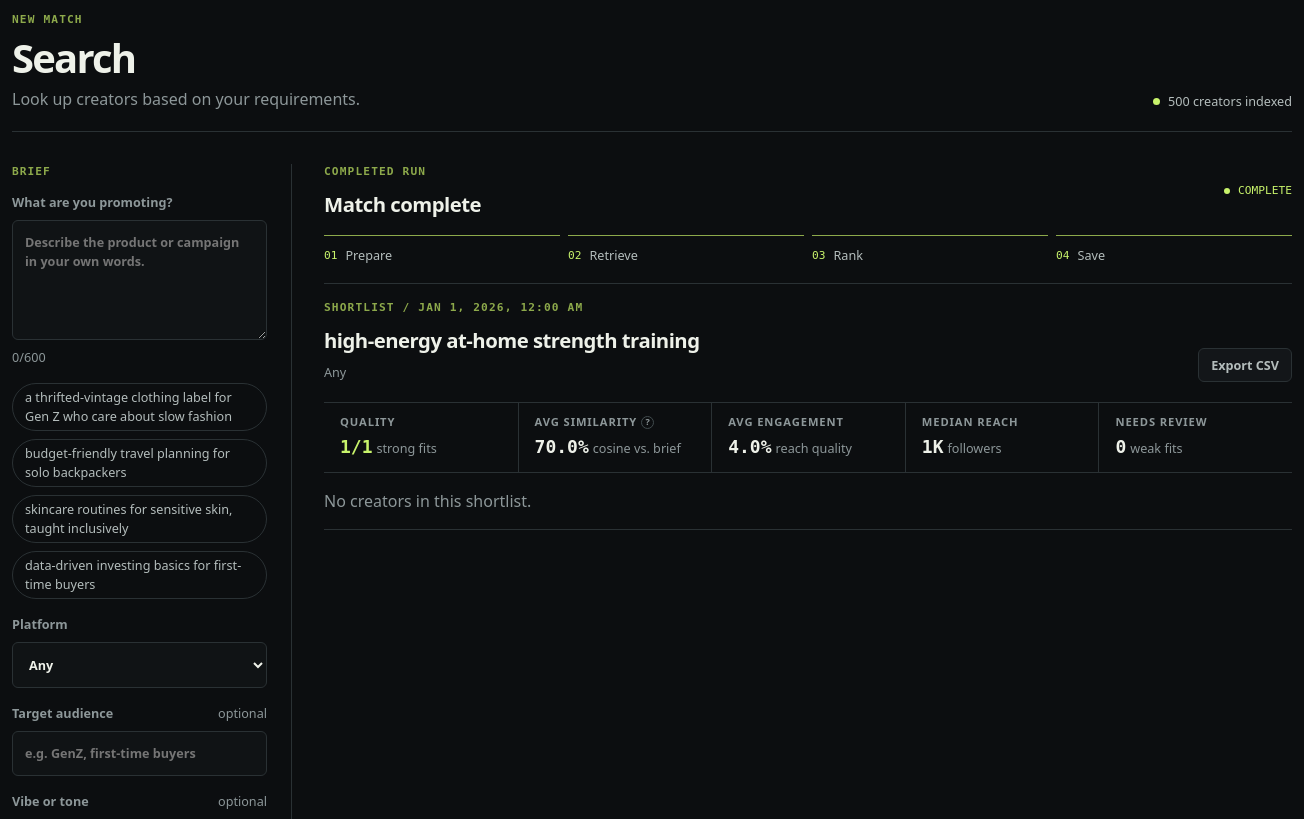
Test case: SearchPage › clears a previous export failure when a later download succeeds
Expected: the heading "high-energy at-home strength training" is shown, top-left (324, 325), bottom-right (700, 356)
What coordinates should you click on to do the following:
click the button "Export CSV"
I would click on:
 (1245, 365)
Its box is top-left (1198, 348), bottom-right (1292, 382).
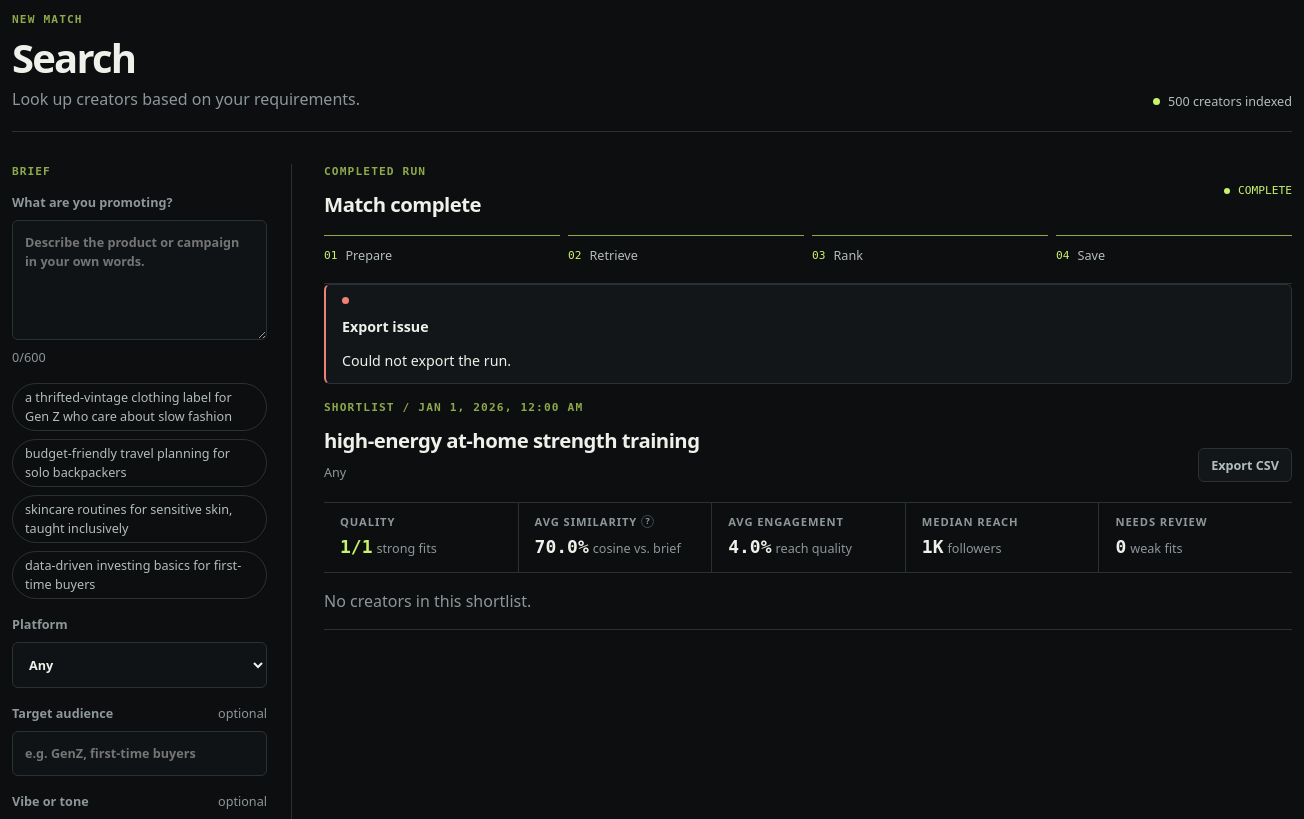
Expected: the text "Could not export the run." is shown, top-left (342, 351), bottom-right (511, 370)
What coordinates should you click on to do the following:
click the button "Export CSV"
I would click on:
 (1245, 465)
Its box is top-left (1198, 448), bottom-right (1292, 482).
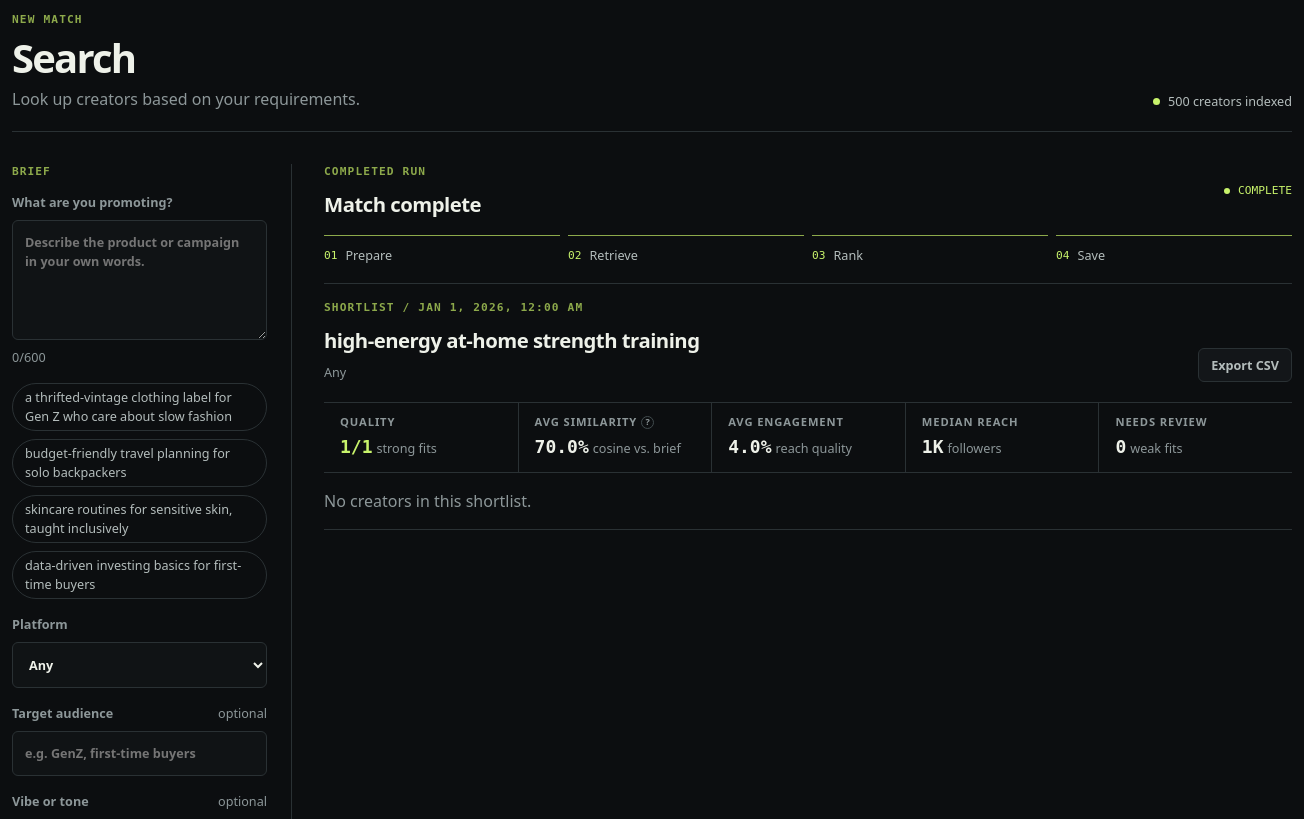
Expected: the text "Could not export" is gone
